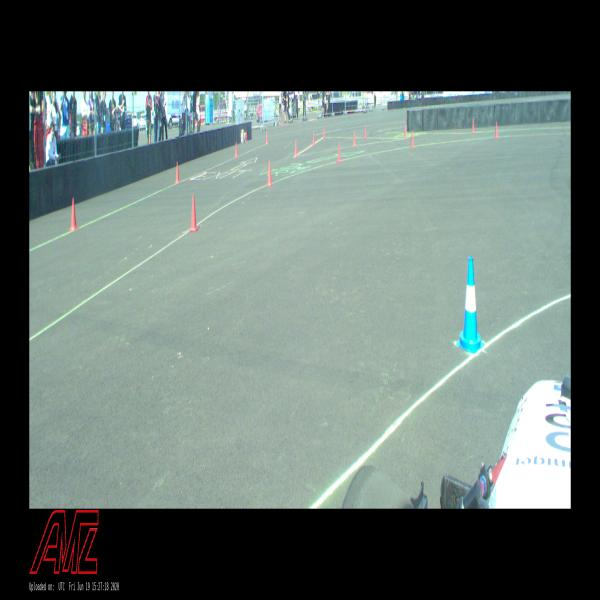blue_cone: (456, 258, 484, 356)
unknown_cone: (189, 194, 199, 232), (69, 198, 78, 230), (266, 161, 273, 187), (174, 162, 180, 184), (336, 144, 341, 162), (494, 122, 499, 138), (294, 139, 298, 158), (410, 130, 414, 148), (403, 125, 407, 141), (234, 142, 238, 157), (352, 132, 356, 146), (471, 119, 475, 132), (265, 133, 269, 144), (312, 132, 315, 145), (322, 126, 325, 139), (364, 126, 366, 140)
